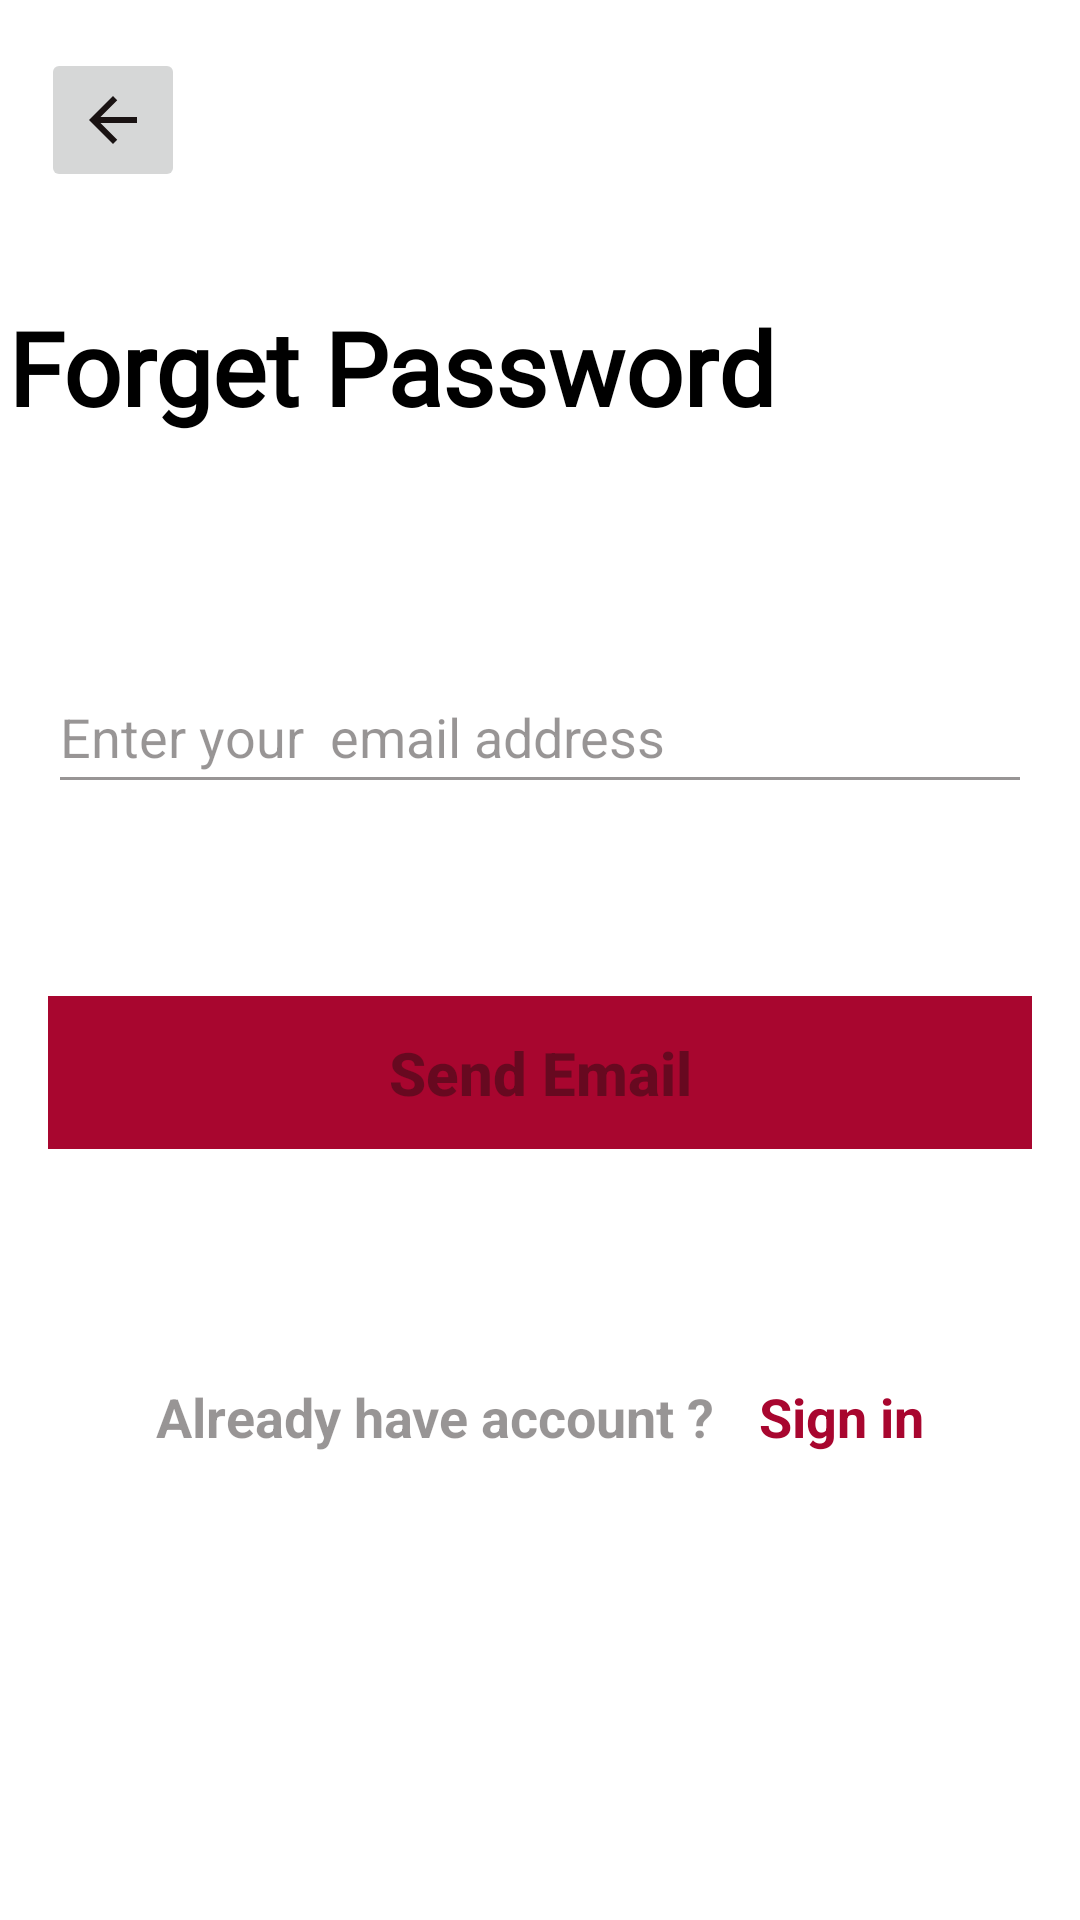

Icon bounding boxes for this 1080 × 1920 phone screenshot, format (x1, y1, x2, y2):
back arrow: (53, 66, 173, 174)
